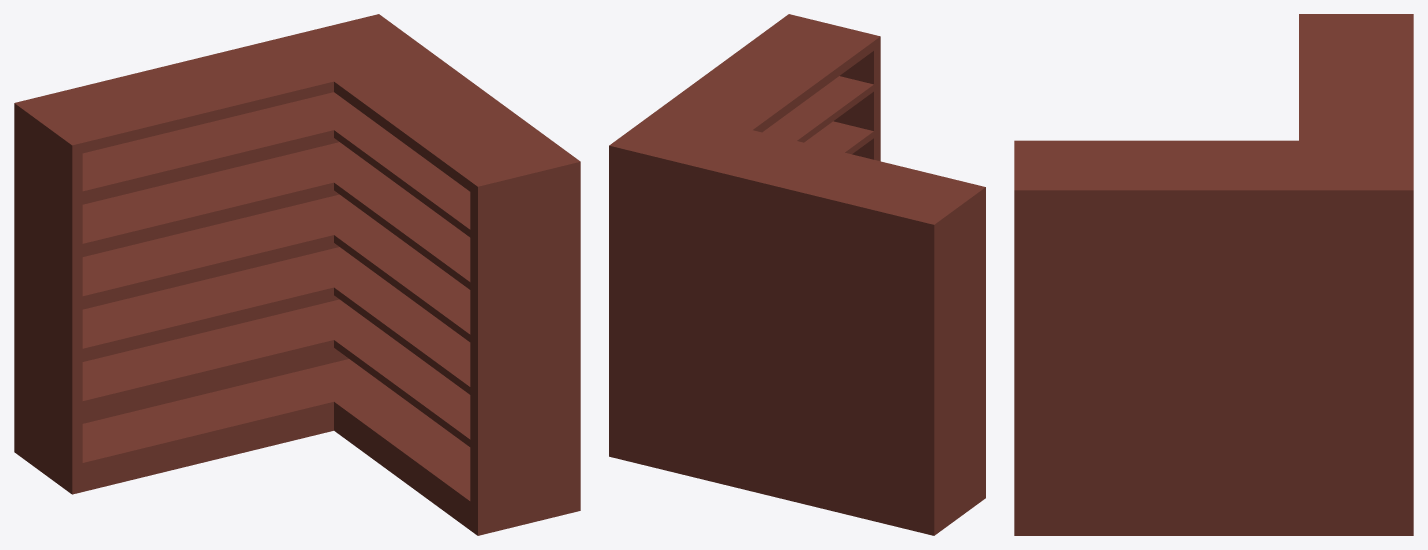
The model's file is L-Shaped Bookshelf.fbx.
3 views of the same model, side by side, from view 1: azimuth 30°, elevation 25°; view 2: azimuth 150°, elevation 25°; view 3: azimuth 270°, elevation 25° (orthographic). The views are drawn at different scales.
Visible parts, largest first — view 1: L-Shaped Bookshelf; view 2: L-Shaped Bookshelf; view 3: L-Shaped Bookshelf.
Boxes of the visible parts, left/top/right/bottom form: L-Shaped Bookshelf: left=14, top=14, right=580, bottom=535; L-Shaped Bookshelf: left=609, top=14, right=985, bottom=535; L-Shaped Bookshelf: left=1014, top=14, right=1413, bottom=535.
Size of the model in its own units: 2.88 by 2.63 by 2.76.
